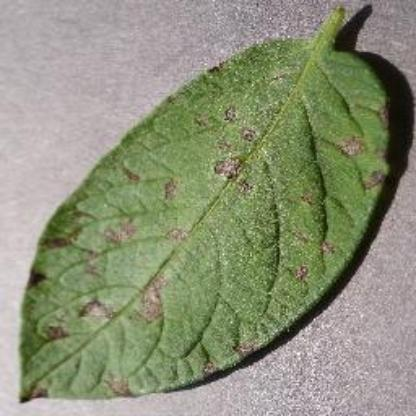Early-Blight: (16, 6, 392, 402)
